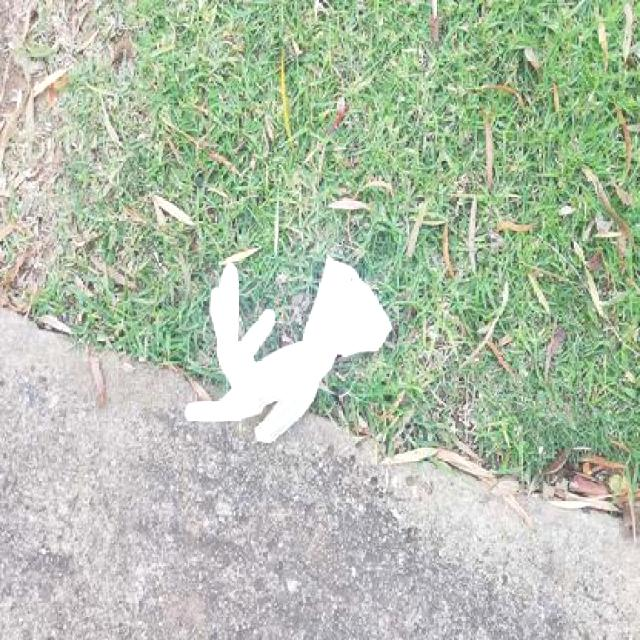glove: (171, 247, 392, 455)
